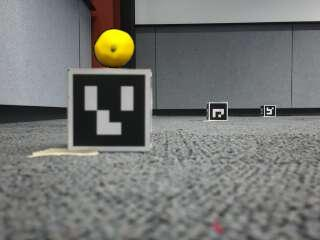lemon: (95, 29, 134, 67)
